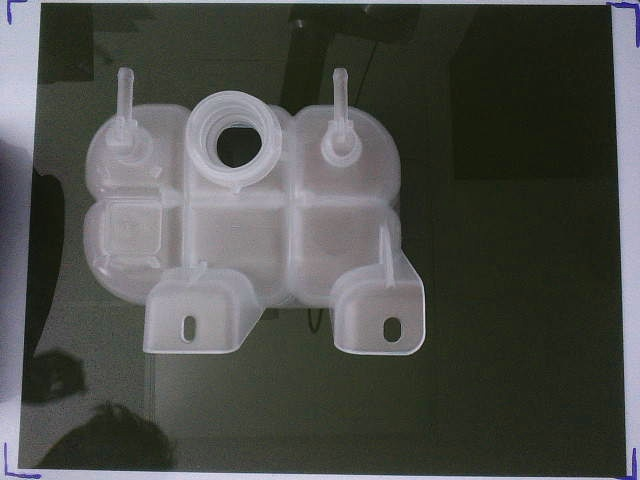reservoir_transparent_Top: (83, 67, 426, 356)
